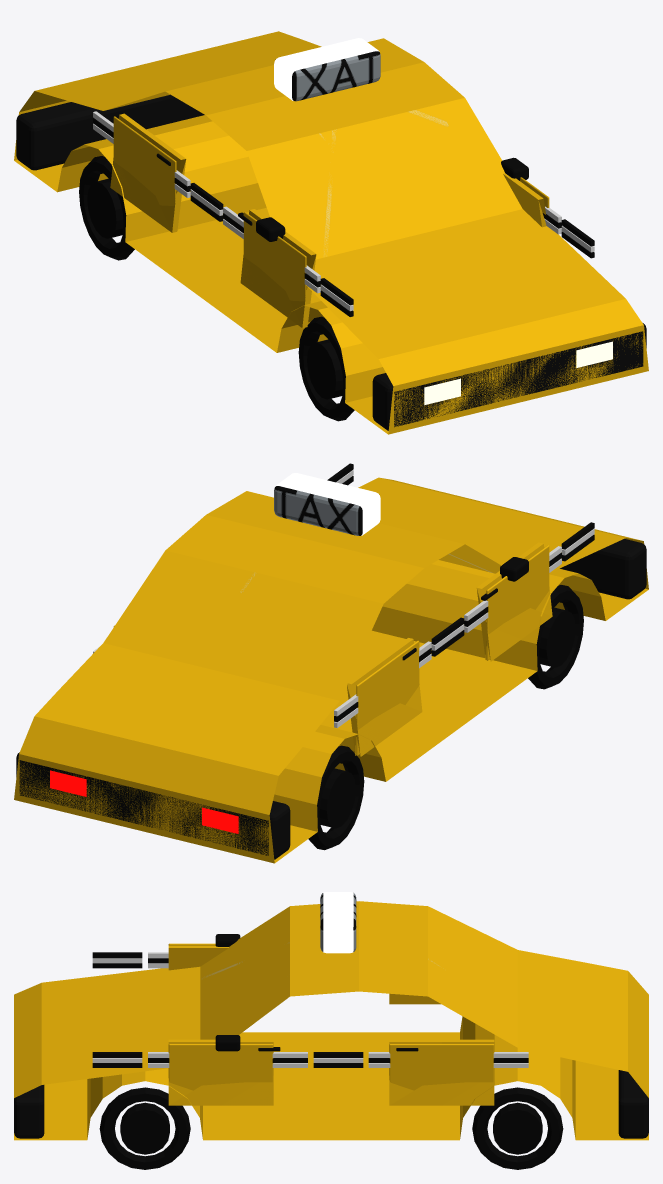
File: taxi_001.glb
The picture shows the model from 3 angles, top to bottom: view 1: azimuth 30°, elevation 25°; view 2: azimuth 150°, elevation 25°; view 3: azimuth 270°, elevation 25°; orthographic projection. The views are drawn at different scales.
Parts seen in each view (by area): view 1: taxi_001_body, taxi_001_bumper_f, taxi_001_bumper_r, taxi_001_sign, taxi_001_wheel_fl, taxi_001_wheel_rl, taxi_001_panel_rl, taxi_001_panel_fl, taxi_001_panel_rl_dent, taxi_001_panel_fl_dent, taxi_001_panel_fr_dent, taxi_001_light_fr (+1 smaller); view 2: taxi_001_body, taxi_001_bumper_r, taxi_001_sign, taxi_001_wheel_rl, taxi_001_wheel_fl, taxi_001_bumper_f, taxi_001_panel_rl, taxi_001_panel_fl, taxi_001_panel_rl_dent, taxi_001_panel_fl_dent, taxi_001_light_rl, taxi_001_light_rr; view 3: taxi_001_body, taxi_001_wheel_fr, taxi_001_wheel_rr, taxi_001_panel_rr, taxi_001_panel_fr, taxi_001_panel_rr_dent, taxi_001_panel_fr_dent, taxi_001_sign, taxi_001_bumper_r, taxi_001_bumper_f, taxi_001_panel_fl_dent, taxi_001_panel_rl_dent.
Boxes of the visible parts, bbox=[...] form: taxi_001_body: bbox=[14, 31, 648, 434]; taxi_001_bumper_f: bbox=[372, 323, 646, 430]; taxi_001_bumper_r: bbox=[16, 94, 204, 170]; taxi_001_sign: bbox=[274, 38, 380, 101]; taxi_001_wheel_fl: bbox=[298, 316, 354, 421]; taxi_001_wheel_rl: bbox=[79, 156, 134, 260]; taxi_001_panel_rl: bbox=[113, 116, 176, 205]; taxi_001_panel_fl: bbox=[243, 211, 306, 301]; taxi_001_panel_rl_dent: bbox=[110, 113, 186, 232]; taxi_001_panel_fl_dent: bbox=[240, 209, 316, 328]; taxi_001_panel_fr_dent: bbox=[503, 173, 546, 227]; taxi_001_light_fr: bbox=[576, 341, 612, 367]; taxi_001_body: bbox=[14, 463, 648, 863]; taxi_001_bumper_r: bbox=[16, 752, 290, 859]; taxi_001_sign: bbox=[274, 473, 380, 535]; taxi_001_wheel_rl: bbox=[308, 745, 364, 850]; taxi_001_wheel_fl: bbox=[528, 585, 583, 689]; taxi_001_bumper_f: bbox=[560, 538, 646, 599]; taxi_001_panel_rl: bbox=[356, 640, 419, 755]; taxi_001_panel_fl: bbox=[486, 545, 549, 660]; taxi_001_panel_rl_dent: bbox=[347, 638, 422, 756]; taxi_001_panel_fl_dent: bbox=[476, 542, 552, 661]; taxi_001_light_rl: bbox=[202, 807, 238, 833]; taxi_001_light_rr: bbox=[50, 770, 86, 796]; taxi_001_body: bbox=[14, 901, 648, 1140]; taxi_001_wheel_fr: bbox=[99, 1087, 190, 1169]; taxi_001_wheel_rr: bbox=[472, 1087, 563, 1169]; taxi_001_panel_rr: bbox=[389, 1044, 494, 1090]; taxi_001_panel_fr: bbox=[168, 1044, 273, 1090]; taxi_001_panel_rr_dent: bbox=[389, 1039, 494, 1105]; taxi_001_panel_fr_dent: bbox=[168, 1039, 273, 1105]; taxi_001_sign: bbox=[320, 892, 356, 953]; taxi_001_bumper_r: bbox=[618, 1070, 648, 1138]; taxi_001_bumper_f: bbox=[14, 1085, 44, 1138]; taxi_001_panel_fl_dent: bbox=[168, 945, 228, 970]; taxi_001_panel_rl_dent: bbox=[389, 993, 440, 1004].
Size of what is drawn, in the model's own units: 1.85 by 1.72 by 4.6.
Materials: 2 (2 with a texture image).
